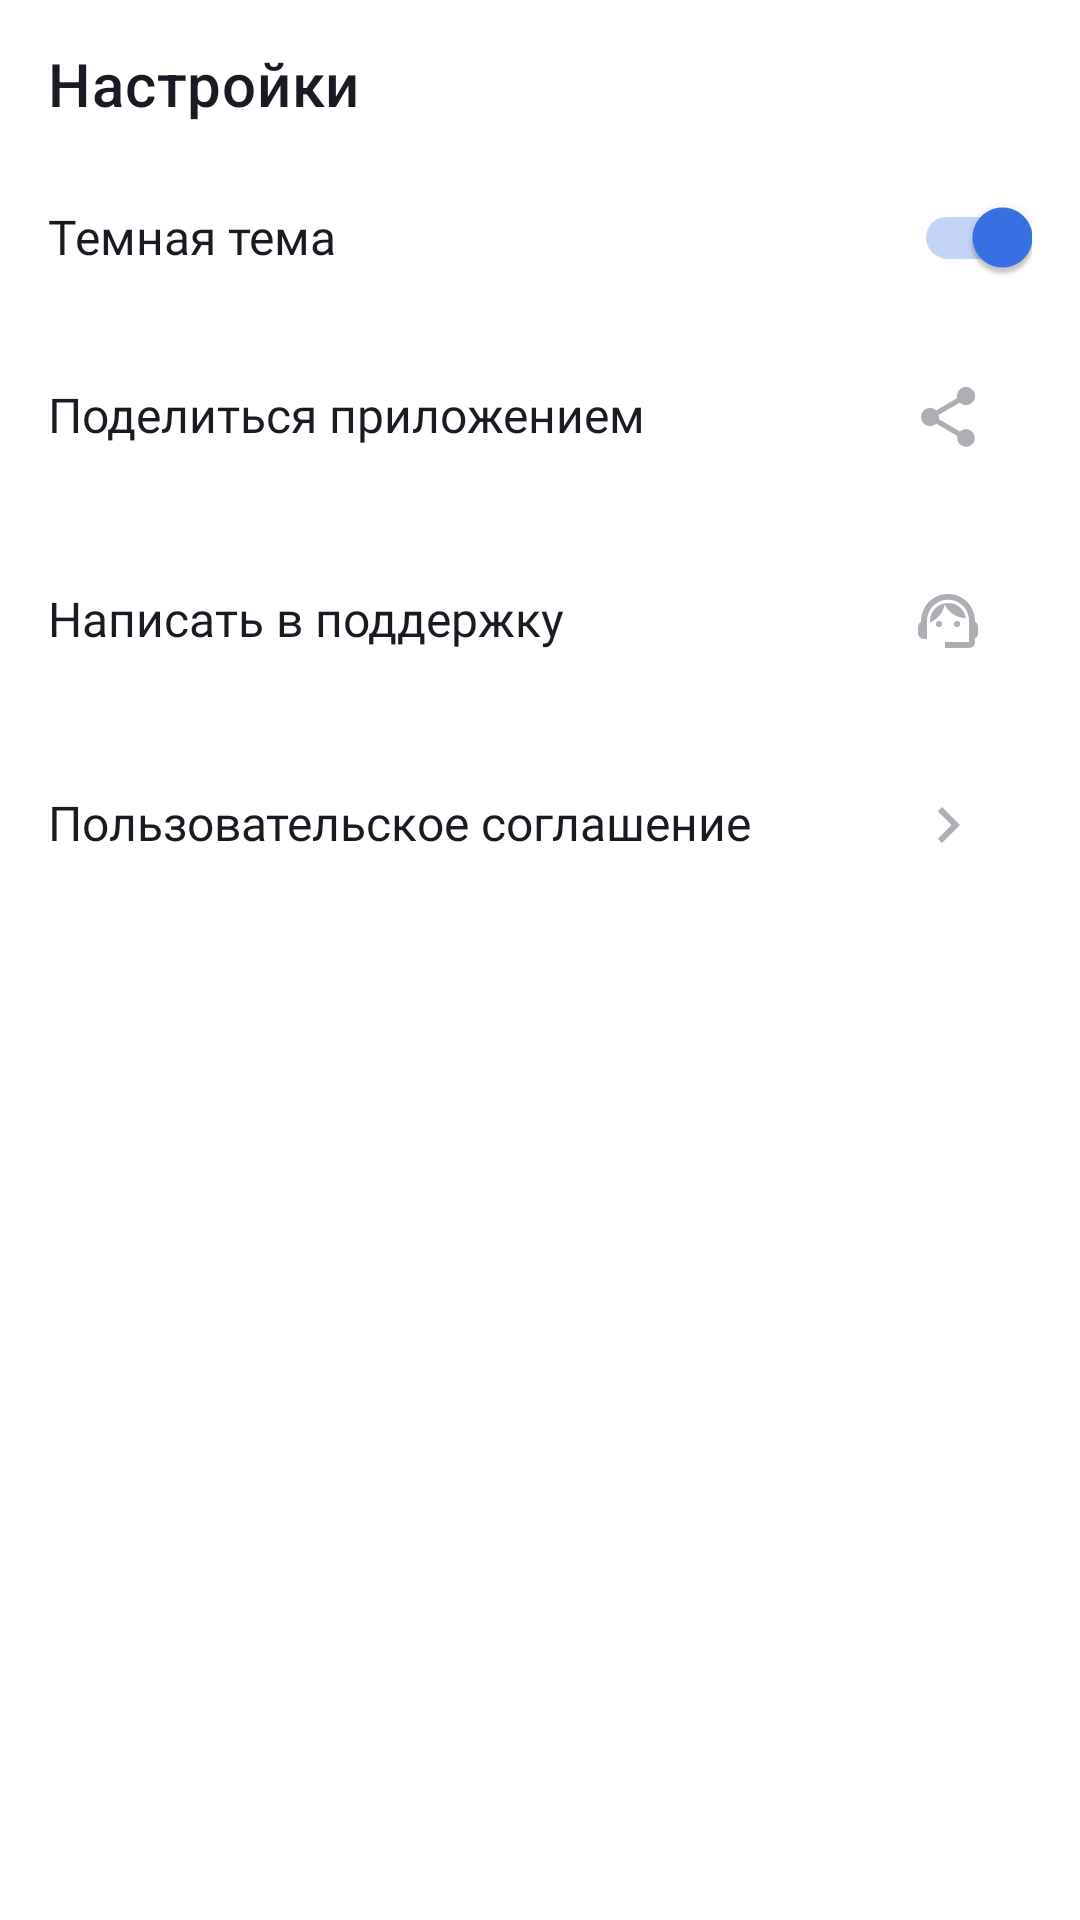

Locate icon controls on the screen. Image size 1080 x 1920, boxes as box=[x1, y1, x2, y2].
navigate next: box=[938, 807, 960, 843]
share: box=[921, 387, 975, 447]
support: box=[918, 594, 978, 648]
